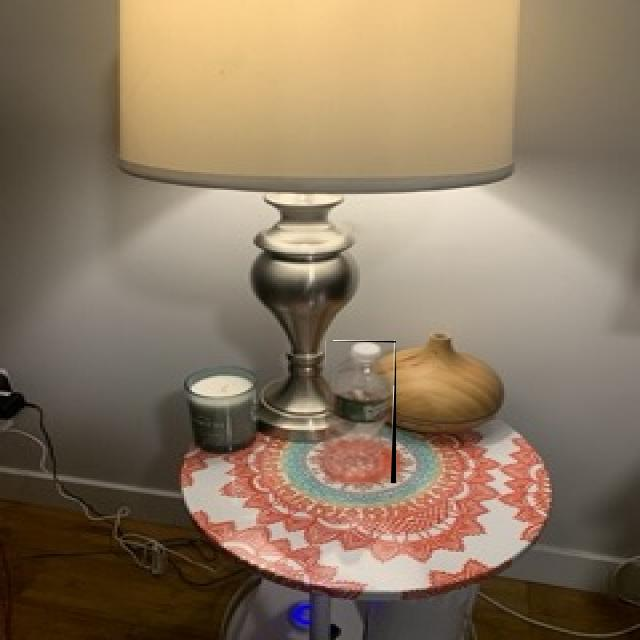water_bottle: (325, 341, 396, 483)
